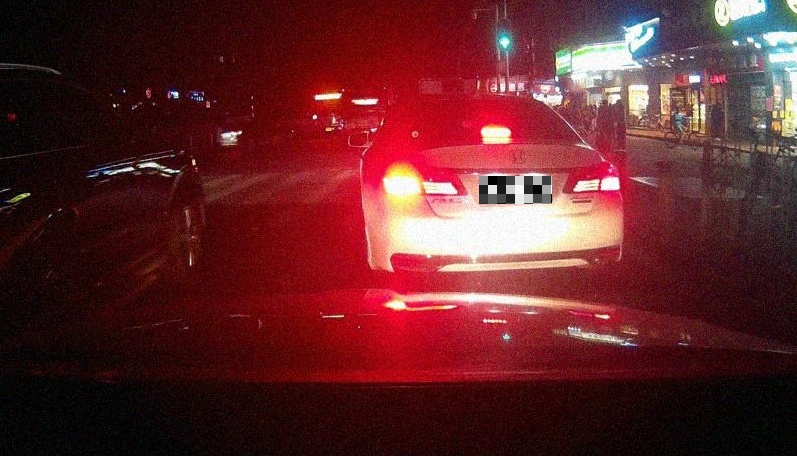L_light: (383, 163, 469, 196)
R_light: (562, 161, 620, 194)
T_light: (481, 128, 511, 138)
night-left: (379, 92, 624, 294)
plate_1: (479, 176, 552, 204)
